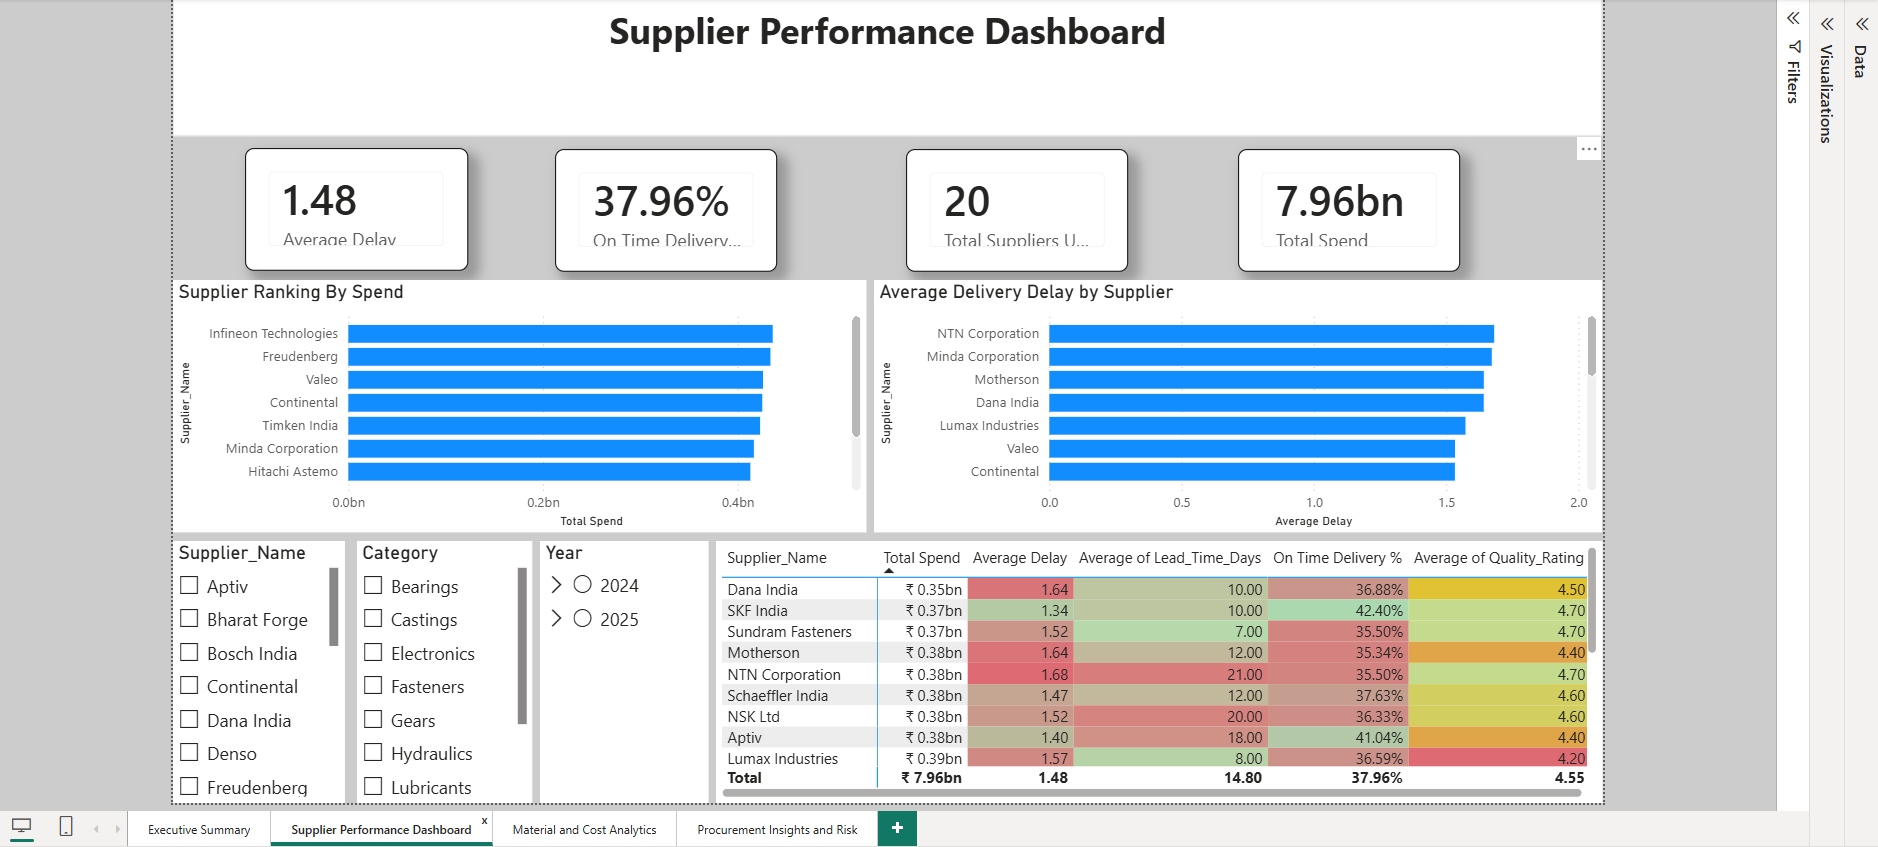

The page's visual inventory and layout, read from the dashboard file:
{"tool":"powerbi","page":{"name":"Supplier Performance Dashboard","canvas":[1280,720],"ordinal":1},"visuals":[{"type":"textbox","box":[0,0,1280,122.6],"z":0},{"type":"cardVisual","fields":{"Data":["Measure Table.Average Delay"]},"box":[64.5,133.6,200,110],"z":1000},{"type":"cardVisual","fields":{"Data":["Measure Table.On Time Delivery %"]},"box":[342.4,134.2,199.4,109.9],"z":2000},{"type":"cardVisual","fields":{"Data":["Measure Table.Total Suppliers Used"]},"box":[656.5,134.2,199.4,109.9],"z":3000},{"type":"cardVisual","fields":{"Data":["Measure Table.Total Spend"]},"box":[954.2,134.2,199.4,109.9],"z":4000},{"type":"clusteredBarChart","title":"Supplier Ranking By Spend","fields":{"Category":["Suppliers.Supplier_Name"],"Y":["Measure Table.Total Spend"]},"box":[0,251.8,620.9,226.4],"z":5000},{"type":"clusteredBarChart","title":"Average Delivery Delay by Supplier","fields":{"Category":["Suppliers.Supplier_Name"],"Y":["Measure Table.Average Delay"]},"box":[628.2,251.8,651.8,226.4],"z":6000},{"type":"pivotTable","fields":{"Rows":["Suppliers.Supplier_Name"],"Values":["Measure Table.Total Spend","Measure Table.Average Delay","Avg(Suppliers.Lead_Time_Days)","Measure Table.On Time Delivery %","Avg(Suppliers.Quality_Rating)"]},"box":[486.4,485.5,793.6,234.5],"z":7000},{"type":"listSlicer","fields":{"Values":["Suppliers.Supplier_Name"]},"box":[0,485.5,153.6,234.5],"z":7001},{"type":"listSlicer","fields":{"Values":["Materials.Category"]},"box":[164.5,485.5,157.3,234.5],"z":7002},{"type":"listSlicer","fields":{"Values":["Purchase_Orders.Order_Date.Variation.Date Hierarchy.Year","Purchase_Orders.Order_Date.Variation.Date Hierarchy.Quarter","Purchase_Orders.Order_Date.Variation.Date Hierarchy.Month","Purchase_Orders.Order_Date.Variation.Date Hierarchy.Day"]},"box":[329.1,485.5,150.9,234.5],"z":7003}]}

Visuals, with their boxes on the page's 1280x720 design canvas (x1, y1, x2, y2). These are canvas units, not pixel positions in the 1878x847 screenshot, which may show the page scaled, cropped or inside an application window:
textbox: (x1=0, y1=0, x2=1280, y2=123)
cardVisual - Measure Table.Average Delay: (x1=64, y1=134, x2=264, y2=244)
cardVisual - Measure Table.On Time Delivery %: (x1=342, y1=134, x2=542, y2=244)
cardVisual - Measure Table.Total Suppliers Used: (x1=656, y1=134, x2=856, y2=244)
cardVisual - Measure Table.Total Spend: (x1=954, y1=134, x2=1154, y2=244)
"Supplier Ranking By Spend" clusteredBarChart: (x1=0, y1=252, x2=621, y2=478)
"Average Delivery Delay by Supplier" clusteredBarChart: (x1=628, y1=252, x2=1280, y2=478)
pivotTable - Suppliers.Supplier_Name x Measure Table.Total Spend: (x1=486, y1=486, x2=1280, y2=720)
listSlicer - Suppliers.Supplier_Name: (x1=0, y1=486, x2=154, y2=720)
listSlicer - Materials.Category: (x1=164, y1=486, x2=322, y2=720)
listSlicer - Purchase_Orders.Order_Date.Variation.Date Hierarchy.Year x Purchase_Orders.Order_Date.Variation.Date Hierarchy.Quarter: (x1=329, y1=486, x2=480, y2=720)
